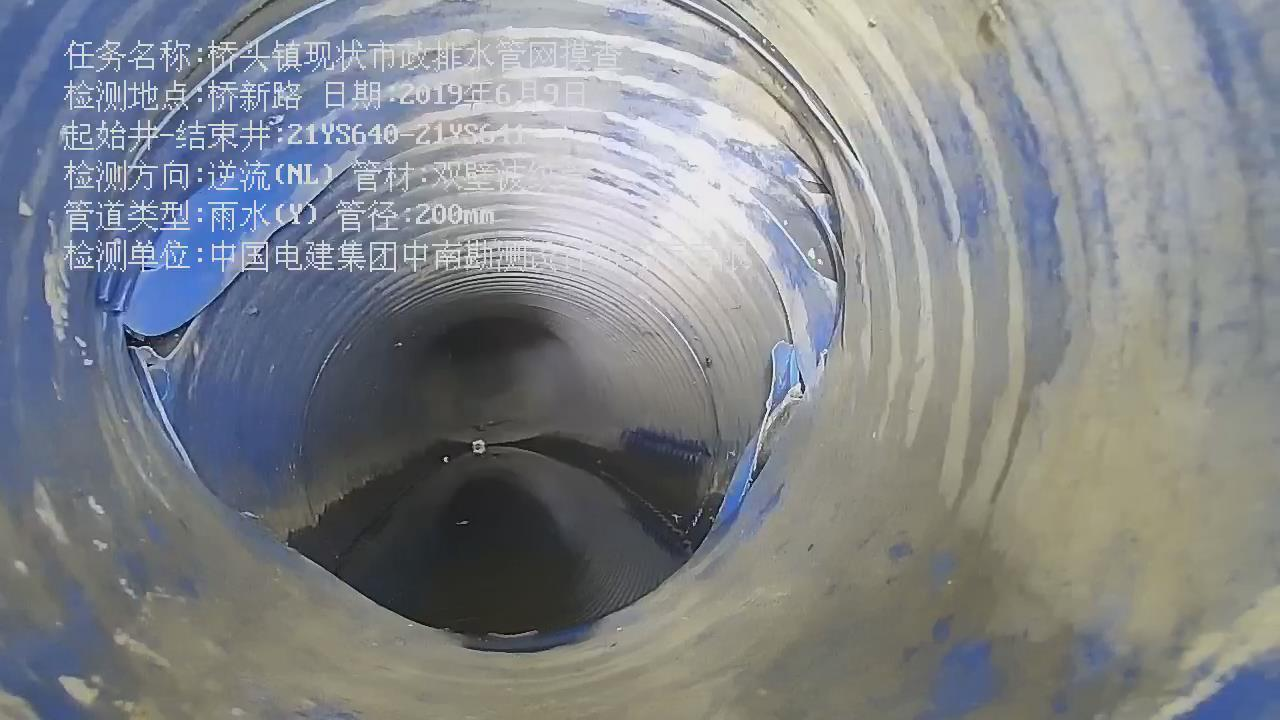PL: (100, 279, 229, 456)
